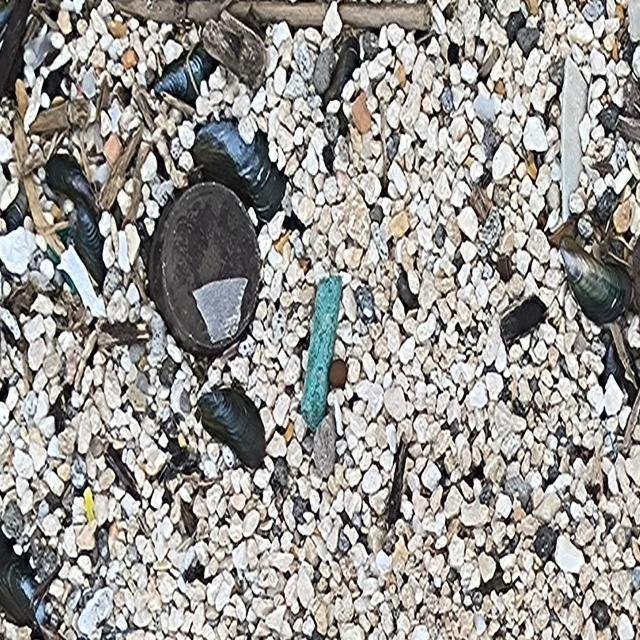plastic_waste: (147, 178, 262, 358)
